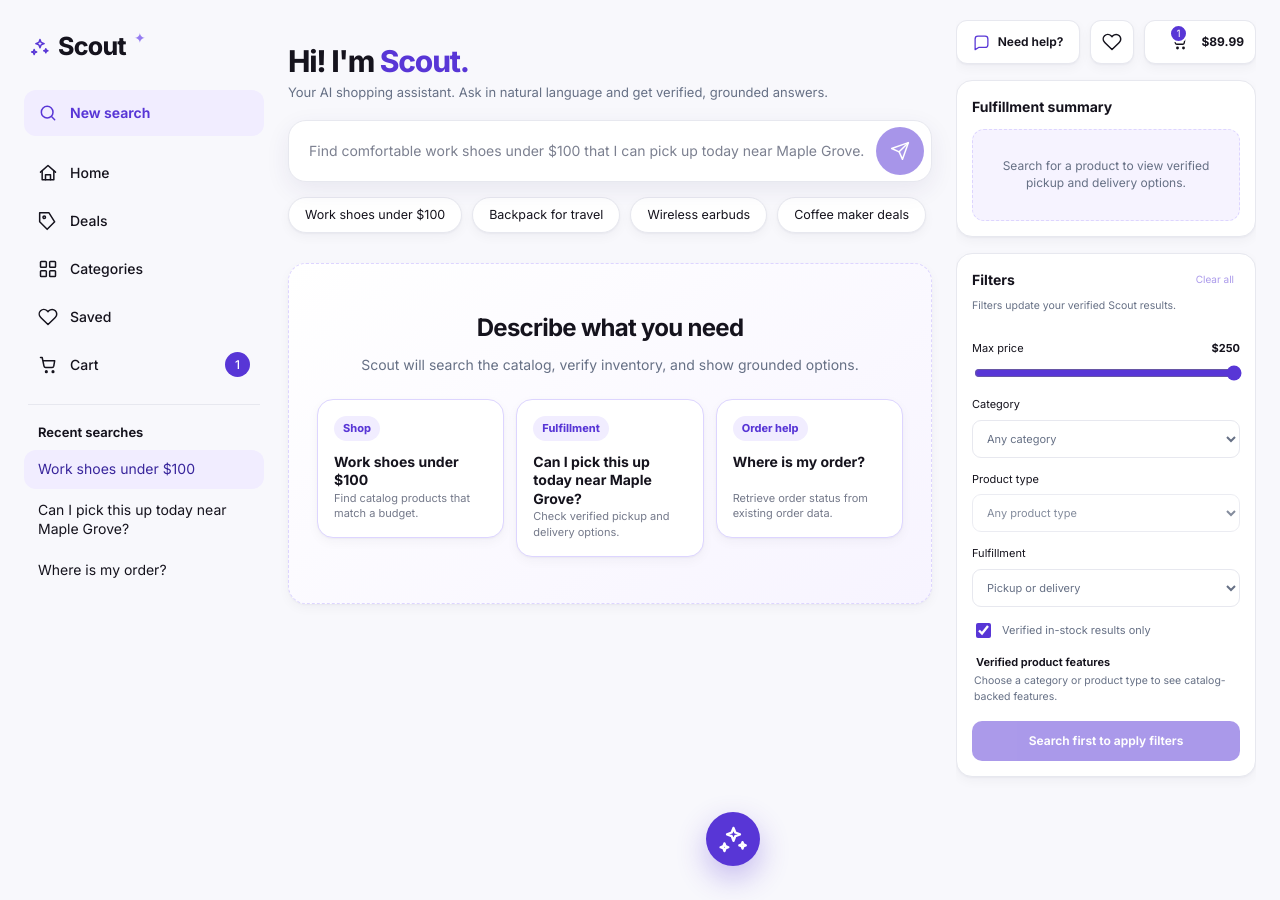
Scenario: Scout cart UI › updates the displayed quantity and subtotal when a quantity control is used (scenario 22)
Expected: the text named "1 item in cart" is shown, [1169,24,1188,43]
What coordinates should you click on to do the following:
click the button named "open cart,"
I would click on:
 (1200, 42)
Its box is [1144,20,1256,64].
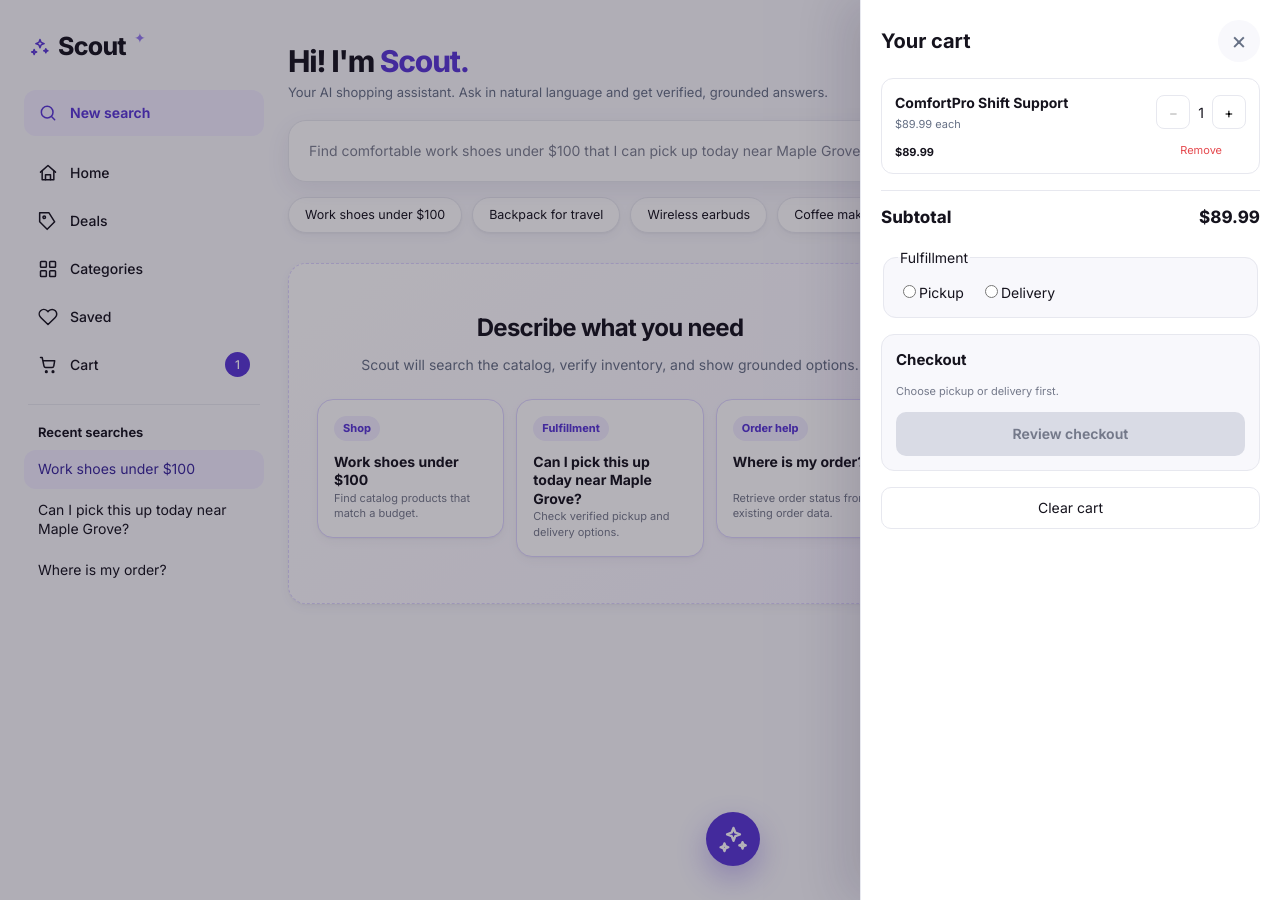
What coordinates should you click on to do the following:
click the button named "increase quantity of comfortpro"
I would click on:
 (1229, 112)
Its box is [1212,95,1246,129].
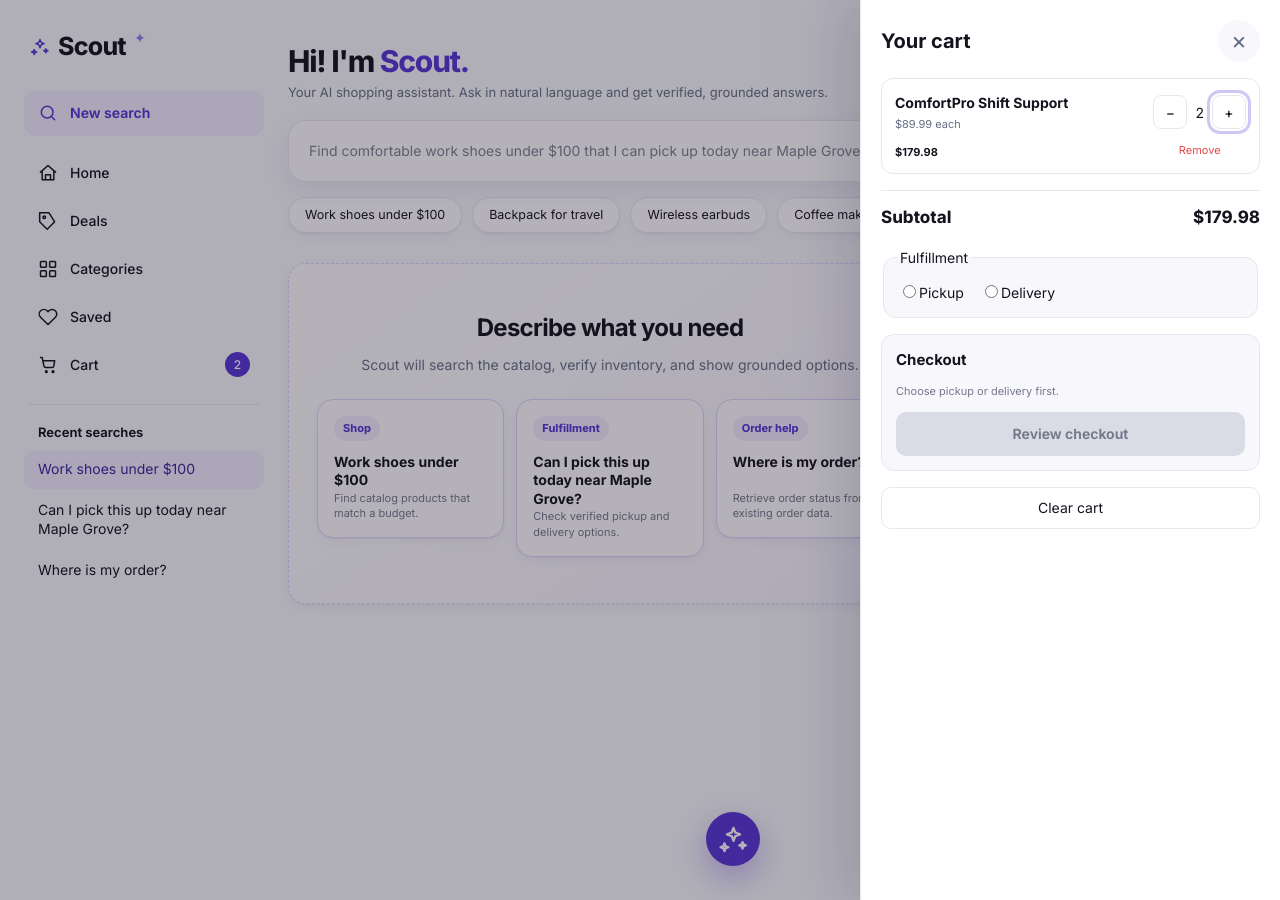
Result: the text "$179.98" in the row of "Subtotal" is shown at [1193,205,1260,230]
